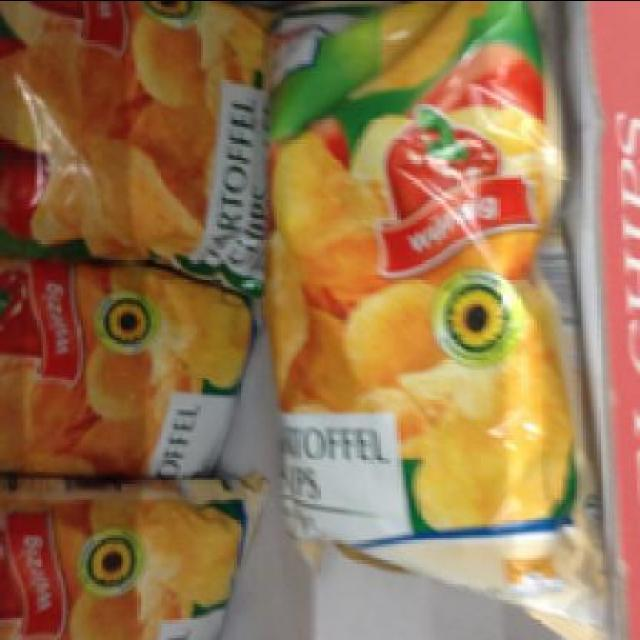Chips: (264, 6, 606, 614), (2, 9, 270, 292), (2, 275, 255, 477), (1, 483, 257, 639)
